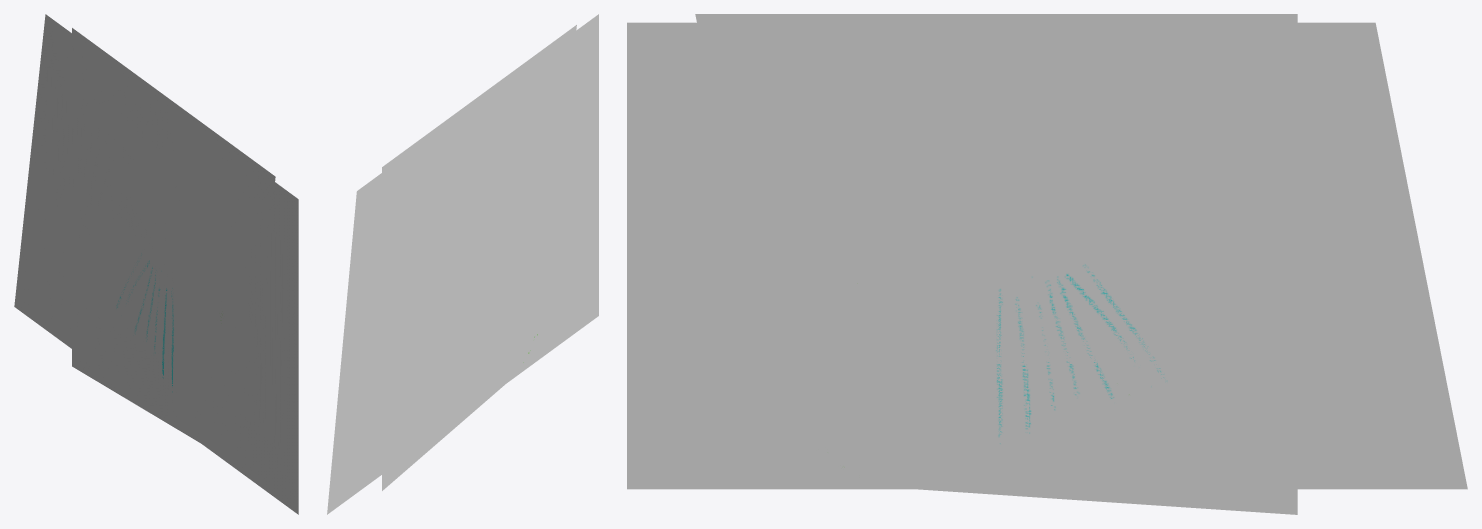
File: Note_Decal.fbx
3 renders of one model, left to right at view 1: azimuth 30°, elevation 25°; view 2: azimuth 150°, elevation 25°; view 3: azimuth 270°, elevation 25°, orthographic. The views are drawn at different scales.
Parts seen in each view (by area): view 1: D_Note_ufo, D_Note_shotgun, D_Note_mutagen, D_Note_Aliens, D_Note_ufo_stars, D_Note_array, D_Note_Triangle, D_Note_Aim, D_Note_todo, D_Note_farm; view 2: D_Note_shotgun, D_Note_ufo_stars, D_Note_ufo, D_Note_Aliens, D_Note_Triangle, D_Note_Aim, D_Note_farm, D_Note_array, D_Note_todo, D_Note_mutagen; view 3: D_Note_ufo, D_Note_Triangle, D_Note_ufo_stars, D_Note_shotgun, D_Note_todo, D_Note_array, D_Note_Aim, D_Note_Aliens, D_Note_farm, D_Note_mutagen.
Boxes of the visible parts, left/top/right/bottom form: D_Note_ufo: left=14, top=14, right=298, bottom=514; D_Note_shotgun: left=47, top=68, right=284, bottom=451; D_Note_mutagen: left=88, top=99, right=243, bottom=420; D_Note_Aliens: left=83, top=116, right=248, bottom=327; D_Note_ufo_stars: left=72, top=28, right=275, bottom=446; D_Note_array: left=127, top=218, right=252, bottom=376; D_Note_Triangle: left=102, top=59, right=230, bottom=369; D_Note_Aim: left=101, top=92, right=230, bottom=353; D_Note_todo: left=104, top=58, right=227, bottom=382; D_Note_farm: left=110, top=193, right=222, bottom=290; D_Note_shotgun: left=358, top=75, right=585, bottom=440; D_Note_ufo_stars: left=382, top=25, right=576, bottom=490; D_Note_ufo: left=327, top=14, right=598, bottom=514; D_Note_Aliens: left=393, top=120, right=550, bottom=393; D_Note_Triangle: left=410, top=62, right=533, bottom=411; D_Note_Aim: left=410, top=97, right=533, bottom=339; D_Note_farm: left=417, top=148, right=526, bottom=309; D_Note_array: left=389, top=146, right=555, bottom=322; D_Note_todo: left=413, top=86, right=530, bottom=450; D_Note_mutagen: left=398, top=104, right=545, bottom=408; D_Note_ufo: left=627, top=22, right=1467, bottom=489; D_Note_Triangle: left=828, top=22, right=1210, bottom=489; D_Note_ufo_stars: left=695, top=14, right=1297, bottom=514; D_Note_shotgun: left=667, top=101, right=1371, bottom=410; D_Note_todo: left=837, top=22, right=1202, bottom=489; D_Note_array: left=939, top=177, right=1276, bottom=334; D_Note_Aim: left=828, top=77, right=1210, bottom=434; D_Note_Aliens: left=776, top=131, right=1262, bottom=380; D_Note_farm: left=851, top=227, right=1188, bottom=363; D_Note_mutagen: left=790, top=101, right=1248, bottom=410.
Size of the model in its own units: 8.74e-06 by 71.57 by 109.
1 material, 1 textured.
